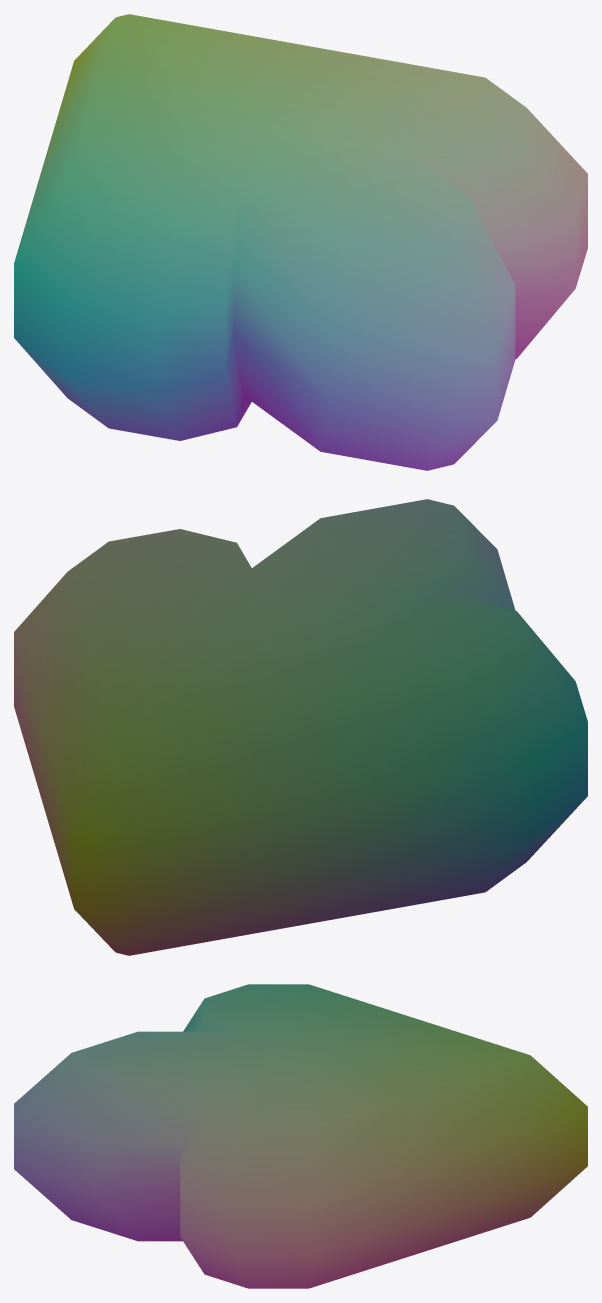
Rendered from arrow_PREBAKE.glb.
3 renders of one model, top to bottom at view 1: azimuth 30°, elevation 25°; view 2: azimuth 150°, elevation 25°; view 3: azimuth 270°, elevation 25°, orthographic. The views are drawn at different scales.
Bounding box in the file's own units: 0.25 × 0.1 × 0.33.
